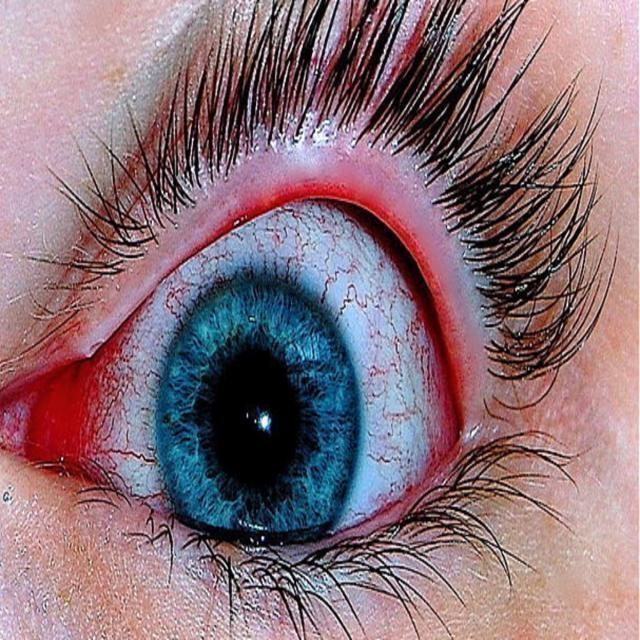Conjunctivitis: (6, 236, 448, 551)
